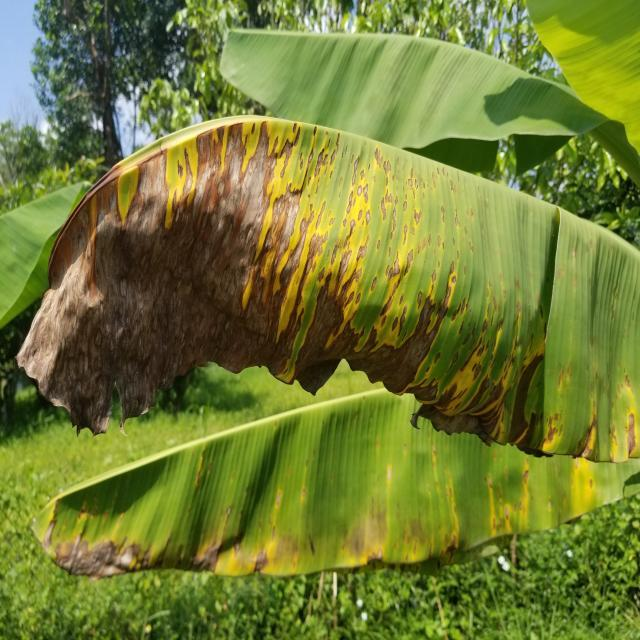Early_rust: (0, 80, 640, 602)
